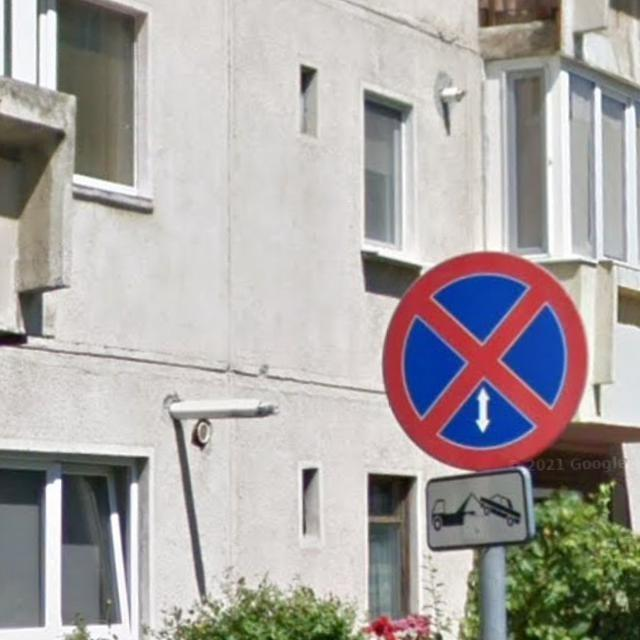forb_waiting: (382, 252, 589, 470)
